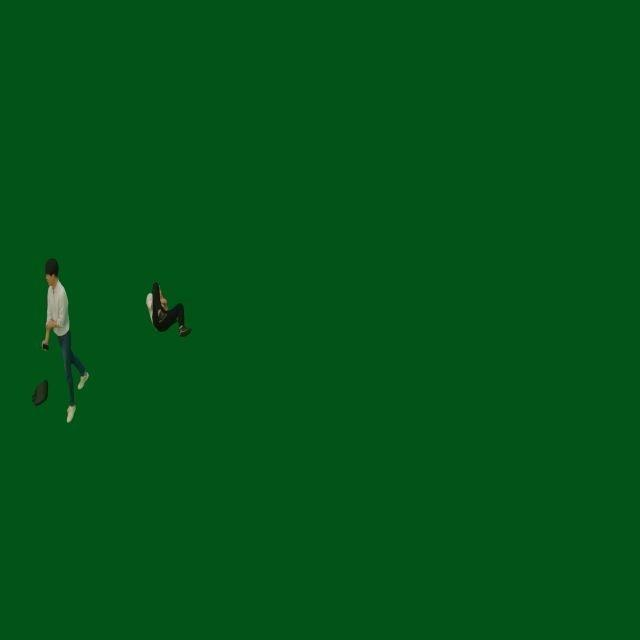non-fight: (30, 256, 90, 424), (151, 283, 193, 339)
